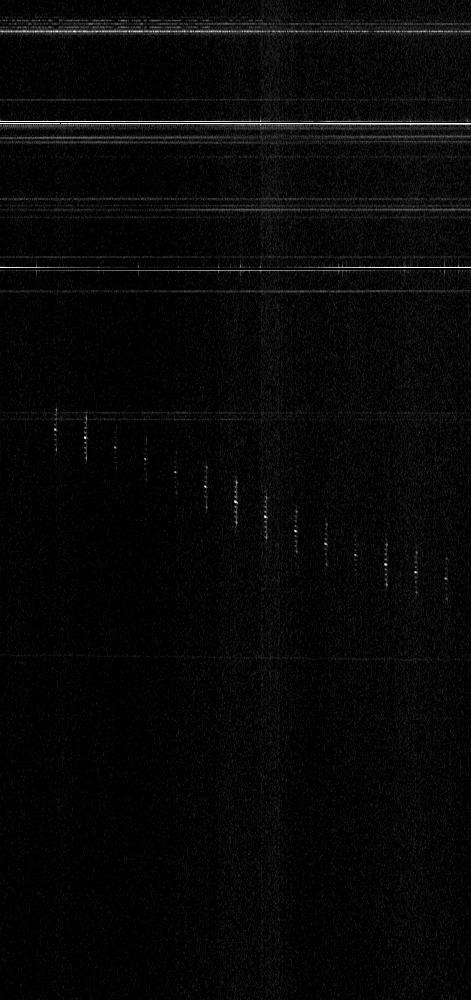signal: (0, 0, 470, 999)
